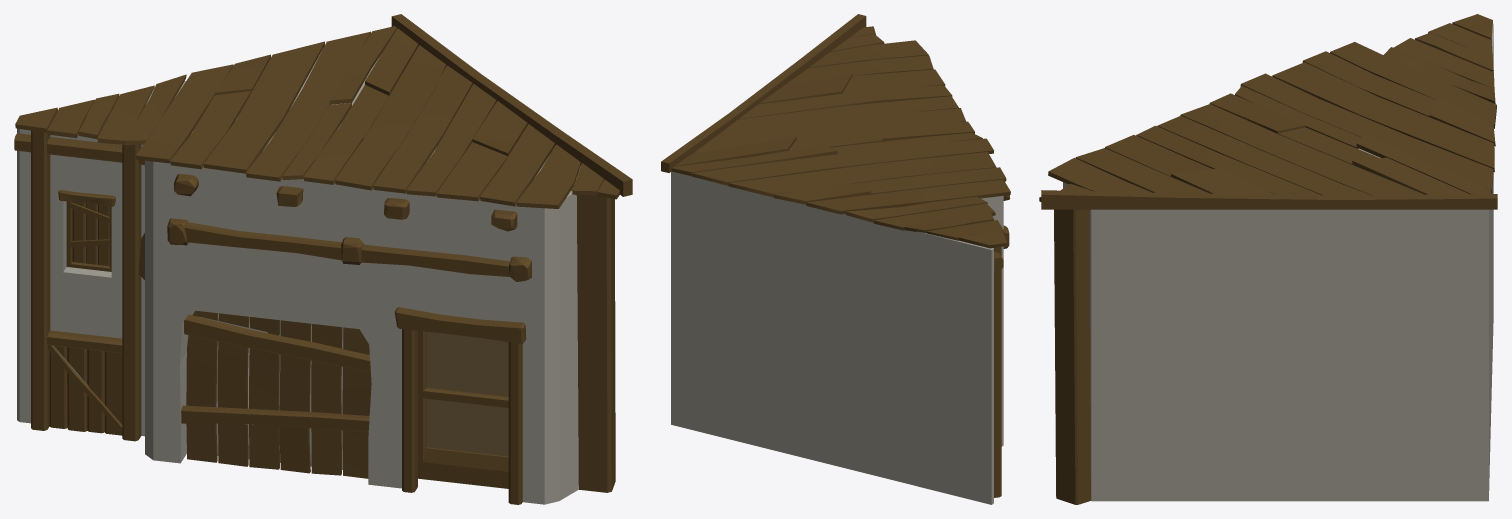
Rendered from civilian_house_46_root.fbx.
The picture shows the model from 3 angles, left to right: view 1: azimuth 30°, elevation 25°; view 2: azimuth 150°, elevation 25°; view 3: azimuth 270°, elevation 25°; orthographic projection. The views are drawn at different scales.
Visible parts, largest first — view 1: civilian_house_46_sh_18, civilian_house_46_sh_5, civilian_house_46_sh_10, civilian_house_46_sh_1, civilian_house_46_sh_17, civilian_house_46_sh_7, civilian_house_46_sh_13, civilian_house_46_sh_2, civilian_house_46_sh_15, civilian_house_46_sh_11, civilian_house_46_sh_6, civilian_house_46_sh_14 (+4 smaller); view 2: civilian_house_46_sh_10, civilian_house_46_sh_4, civilian_house_46_sh_18, civilian_house_46_sh_17, civilian_house_46_sh_6, civilian_house_46_sh_3, civilian_house_46_sh_5, civilian_house_46_sh_11, civilian_house_46_sh_7, civilian_house_46_sh_9, civilian_house_46_sh_14, civilian_house_46_sh_16 (+1 smaller); view 3: civilian_house_46_sh_5, civilian_house_46_sh_12, civilian_house_46_sh_8, civilian_house_46_sh_16, civilian_house_46_sh_17, civilian_house_46_sh_9, civilian_house_46_sh_3, civilian_house_46_sh_4, civilian_house_46_sh_11, civilian_house_46_sh_18, civilian_house_46_sh_6, civilian_house_46_sh_7 (+2 smaller).
Boxes of the visible parts, x1=… form: civilian_house_46_sh_18: x1=14, y1=97, x2=215, y2=343; civilian_house_46_sh_5: x1=447, y1=122, x2=632, y2=390; civilian_house_46_sh_10: x1=17, y1=245, x2=254, y2=463; civilian_house_46_sh_1: x1=213, y1=387, x2=581, y2=504; civilian_house_46_sh_17: x1=232, y1=54, x2=524, y2=156; civilian_house_46_sh_7: x1=216, y1=149, x2=441, y2=287; civilian_house_46_sh_13: x1=278, y1=250, x2=466, y2=388; civilian_house_46_sh_2: x1=410, y1=302, x2=570, y2=459; civilian_house_46_sh_15: x1=231, y1=247, x2=400, y2=395; civilian_house_46_sh_11: x1=188, y1=107, x2=405, y2=267; civilian_house_46_sh_6: x1=104, y1=64, x2=249, y2=358; civilian_house_46_sh_14: x1=345, y1=159, x2=490, y2=259; civilian_house_46_sh_10: x1=767, y1=262, x2=1003, y2=504; civilian_house_46_sh_4: x1=661, y1=142, x2=796, y2=372; civilian_house_46_sh_18: x1=918, y1=170, x2=1010, y2=414; civilian_house_46_sh_17: x1=737, y1=84, x2=881, y2=217; civilian_house_46_sh_6: x1=794, y1=178, x2=947, y2=305; civilian_house_46_sh_3: x1=671, y1=364, x2=831, y2=464; civilian_house_46_sh_5: x1=787, y1=14, x2=931, y2=90; civilian_house_46_sh_11: x1=876, y1=112, x2=1001, y2=185; civilian_house_46_sh_7: x1=878, y1=95, x2=993, y2=153; civilian_house_46_sh_9: x1=688, y1=102, x2=749, y2=162; civilian_house_46_sh_14: x1=886, y1=64, x2=964, y2=117; civilian_house_46_sh_16: x1=767, y1=69, x2=888, y2=98; civilian_house_46_sh_5: x1=1039, y1=151, x2=1205, y2=399; civilian_house_46_sh_12: x1=1055, y1=352, x2=1288, y2=504; civilian_house_46_sh_8: x1=1280, y1=286, x2=1489, y2=468; civilian_house_46_sh_16: x1=1159, y1=151, x2=1289, y2=380; civilian_house_46_sh_17: x1=1210, y1=108, x2=1494, y2=213; civilian_house_46_sh_9: x1=1268, y1=175, x2=1444, y2=312; civilian_house_46_sh_3: x1=1237, y1=359, x2=1491, y2=501; civilian_house_46_sh_4: x1=1423, y1=141, x2=1497, y2=403; civilian_house_46_sh_11: x1=1237, y1=58, x2=1397, y2=144; civilian_house_46_sh_18: x1=1309, y1=14, x2=1493, y2=193; civilian_house_46_sh_6: x1=1375, y1=62, x2=1496, y2=128; civilian_house_46_sh_7: x1=1197, y1=73, x2=1271, y2=152.
Size of the model in its own units: 2598 by 1982 by 2639.
